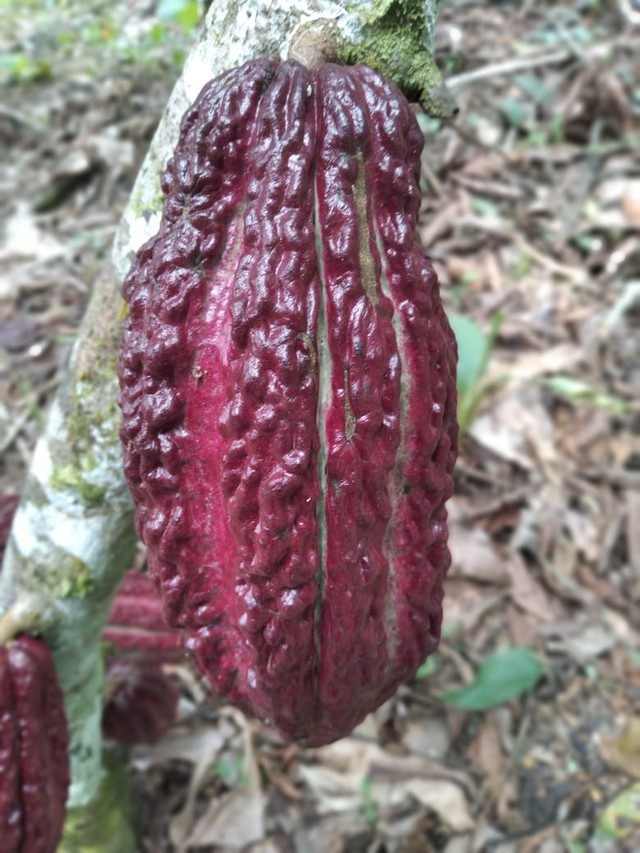Health: (107, 48, 472, 752)
